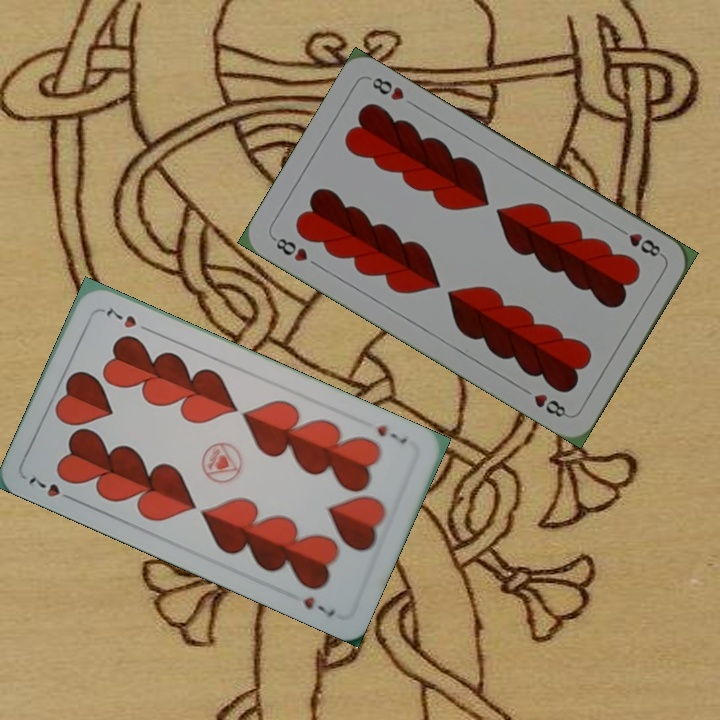H7: (24, 471, 78, 504), (373, 420, 410, 446)
H8: (613, 223, 666, 260), (268, 233, 311, 265)
